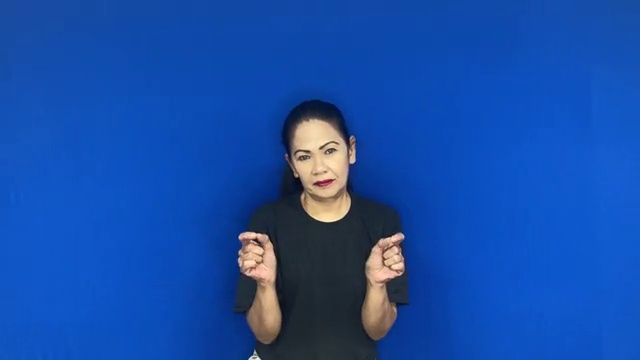crab: (232, 225, 410, 290)
